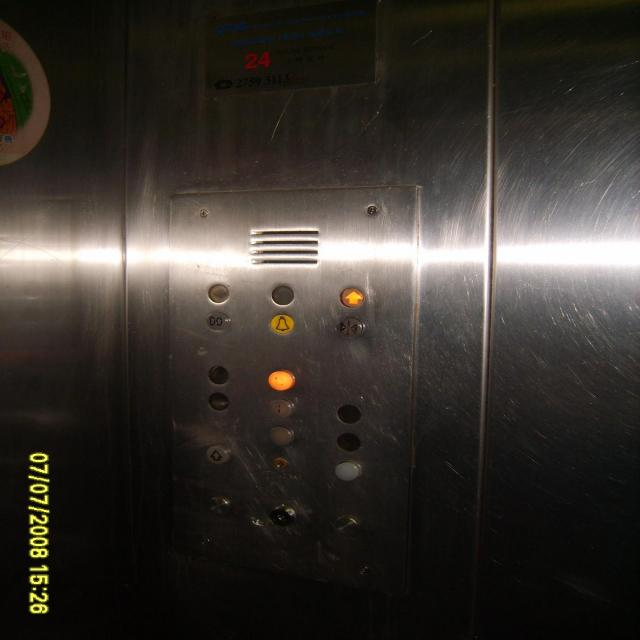1: (266, 398, 292, 420)
2: (266, 368, 296, 392)
DO: (204, 310, 230, 332)
alarm: (270, 314, 294, 334)
blur: (206, 281, 231, 304), (208, 364, 230, 385)
close: (333, 316, 364, 339)
empty: (333, 459, 363, 484), (334, 403, 364, 426), (268, 284, 295, 308), (204, 494, 232, 517), (267, 424, 294, 447), (331, 514, 359, 536), (334, 432, 363, 452), (207, 392, 231, 412)
keyhole: (270, 502, 296, 528), (270, 456, 288, 470)
up: (338, 286, 364, 309), (204, 444, 228, 466)
